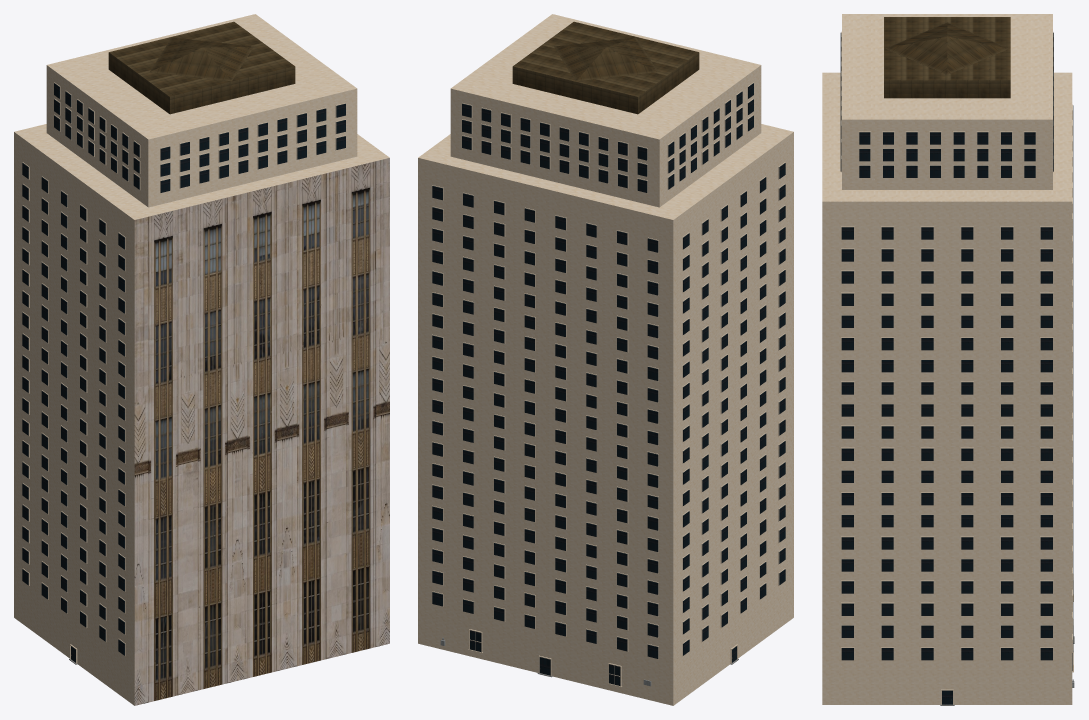
File: foundry-tower_lod0.gltf
3 renders of one model, left to right at view 1: azimuth 30°, elevation 25°; view 2: azimuth 150°, elevation 25°; view 3: azimuth 270°, elevation 25°, orthographic. The views are drawn at different scales.
Visible parts, largest first — view 1: foundry-tower_front, foundry-tower_tier0, foundry-tower_tier1, foundry-tower_fen_07-glass-curtain-blue_1_t, foundry-tower_crown, foundry-tower_fen_04-limestone_0; view 2: foundry-tower_tier0, foundry-tower_fen_07-glass-curtain-blue_1_t, foundry-tower_tier1, foundry-tower_fen_04-limestone_0, foundry-tower_crown; view 3: foundry-tower_tier0, foundry-tower_fen_07-glass-curtain-blue_1_t, foundry-tower_tier1, foundry-tower_fen_04-limestone_0, foundry-tower_crown.
Part boxes in pixels (x1,y1,x2,y2): foundry-tower_front: (134,158,389,705); foundry-tower_tier0: (14,124,389,705); foundry-tower_tier1: (46,14,357,207); foundry-tower_fen_07-glass-curtain-blue_1_t: (22,83,345,662); foundry-tower_crown: (108,21,295,114); foundry-tower_fen_04-limestone_0: (22,82,345,663); foundry-tower_tier0: (418,124,793,705); foundry-tower_fen_07-glass-curtain-blue_1_t: (432,83,785,685); foundry-tower_tier1: (450,14,761,207); foundry-tower_fen_04-limestone_0: (432,82,785,687); foundry-tower_crown: (512,21,699,114); foundry-tower_tier0: (822,72,1072,704); foundry-tower_fen_07-glass-curtain-blue_1_t: (840,32,1073,704); foundry-tower_tier1: (842,14,1052,189); foundry-tower_fen_04-limestone_0: (841,31,1073,704); foundry-tower_crown: (884,17,1010,98).
Bounding box in the file's own units: 55.8 × 120 × 45.4.
